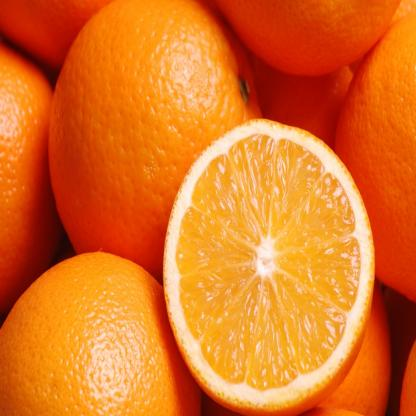orange: (44, 0, 290, 285), (0, 247, 205, 410)
